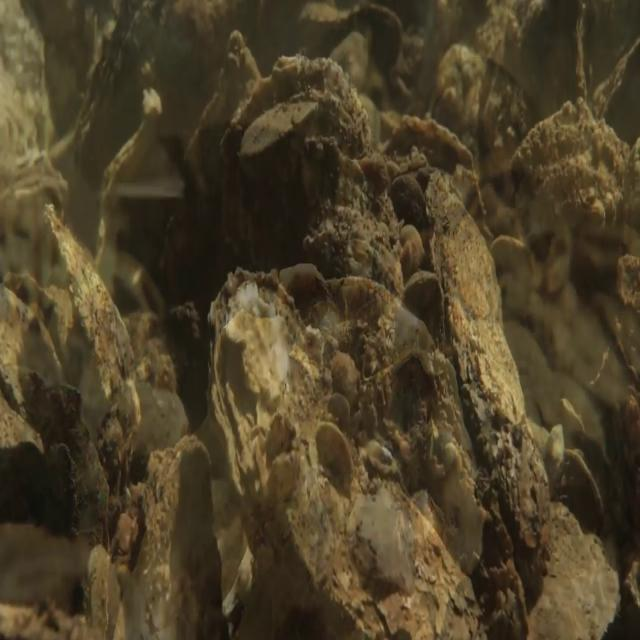Oyster-Closed: (201, 257, 489, 634), (427, 170, 554, 621), (217, 51, 380, 265), (108, 430, 231, 636), (42, 193, 143, 433), (90, 96, 163, 265)
Oyster-Indeterminate: (0, 355, 110, 639), (297, 137, 407, 302), (513, 93, 632, 242), (382, 109, 494, 250), (296, 1, 362, 34)
